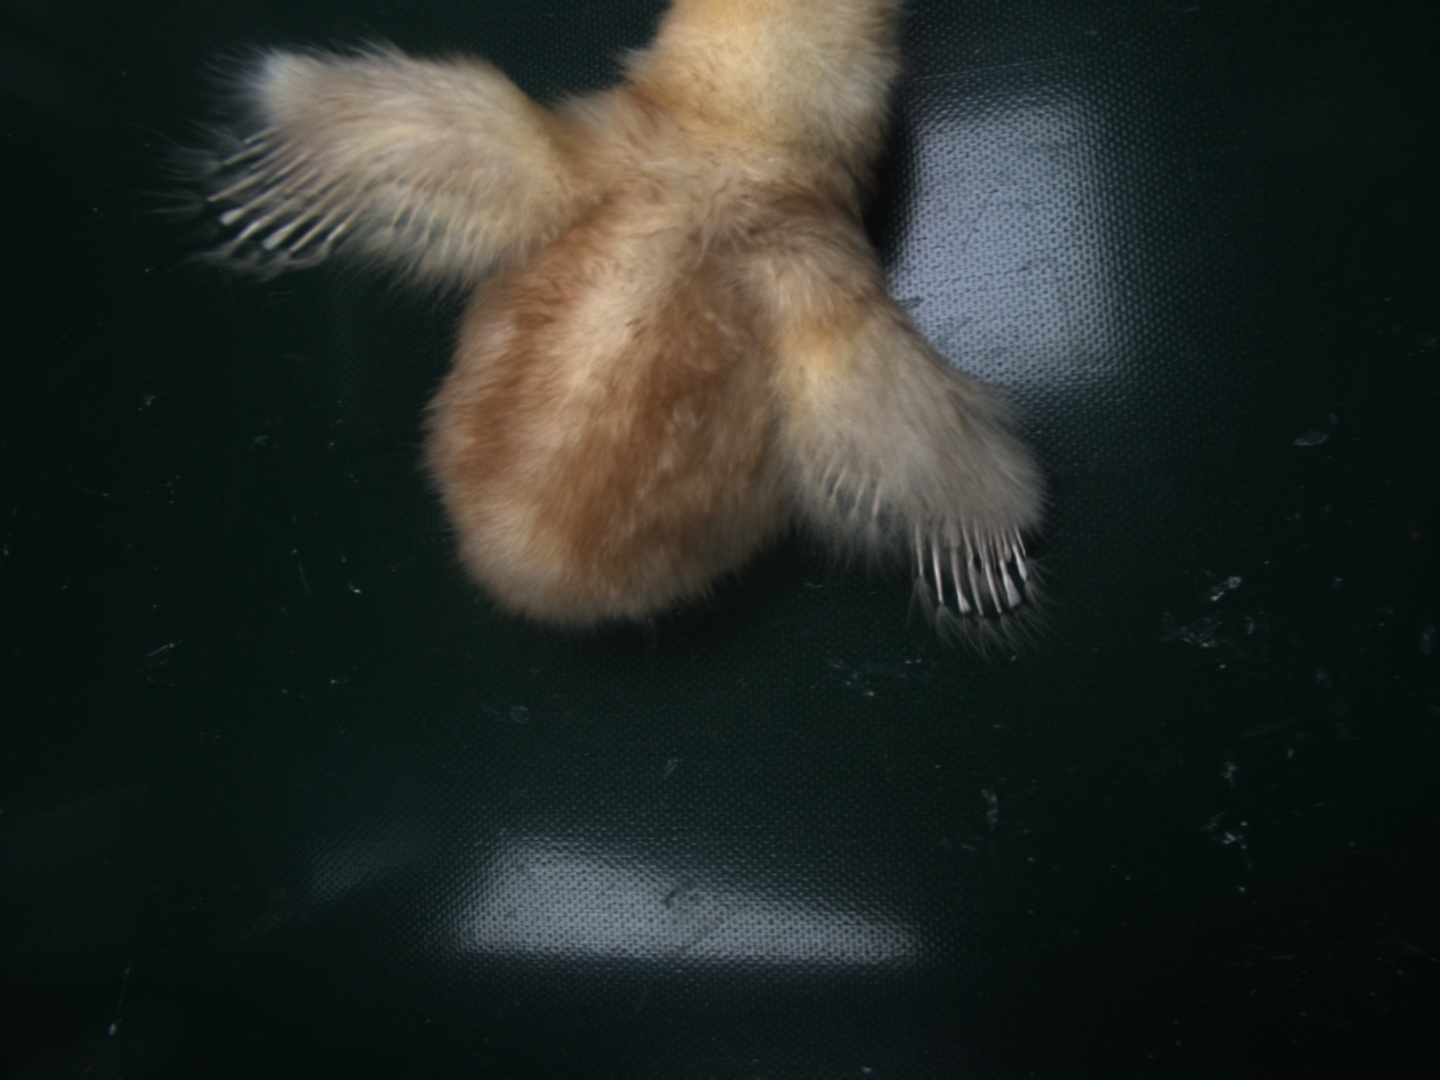female: (209, 123, 358, 255), (912, 512, 1033, 615)
